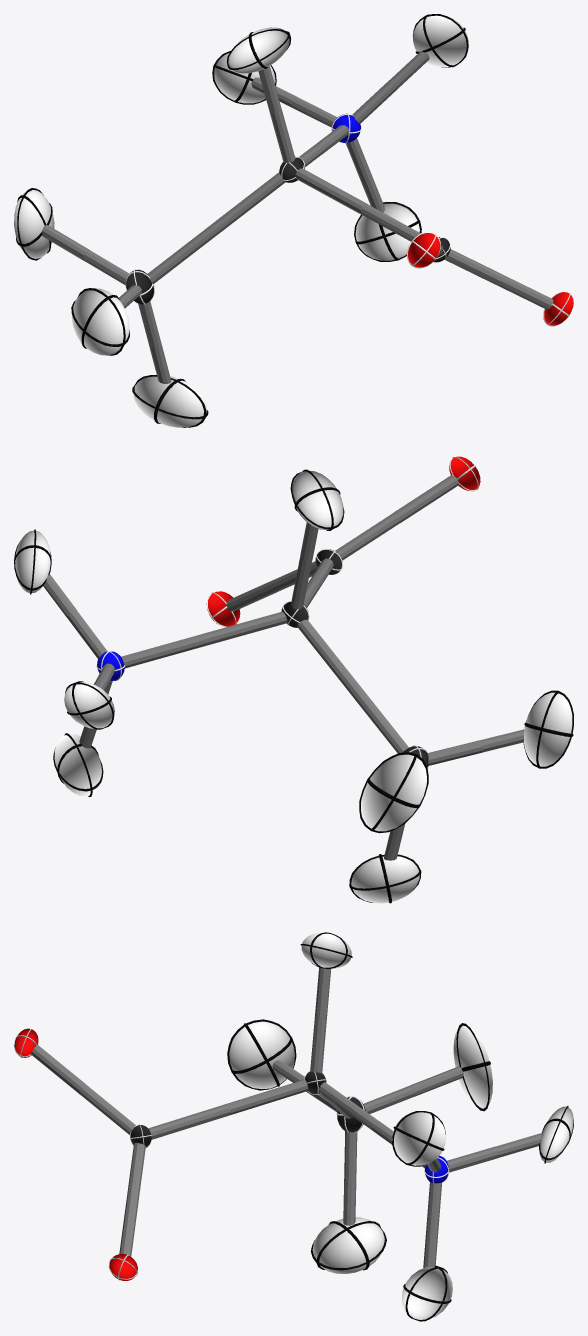
Rendered from L-Ala.obj.
3 renders of one model, top to bottom at view 1: azimuth 30°, elevation 25°; view 2: azimuth 150°, elevation 25°; view 3: azimuth 270°, elevation 25°, orthographic. The views are drawn at different scales.
Visible parts, largest first — view 1: H6, H7, H1, H2, H5, H4, H3, C1=C2, C2=C1, C1=C3, O2, C3=C1 (+13 smaller); view 2: H5, H6, H7, H4, H1, H3, H2, C1=N1, N1=C1, C1=C2, C2=C1, O2=C3 (+8 smaller); view 3: H6, H7, H2, H5, H1, H4, H3, C3=C1, C1=C3, C1=N1, C3=O2, O2=C3 (+13 smaller).
Boxes of the visible parts, x1,y1,x2,y2 form: H6: (71, 288, 129, 355); H7: (132, 375, 208, 427); H1: (354, 202, 421, 261); H2: (413, 14, 468, 67); H5: (14, 188, 54, 260); H4: (227, 27, 290, 73); H3: (212, 51, 276, 104); C1=C2: (212, 172, 285, 232); C2=C1: (147, 224, 219, 283); C1=C3: (295, 168, 367, 214); O2: (407, 232, 440, 268); C3=C1: (361, 204, 420, 241); H5: (359, 752, 428, 833); H6: (523, 690, 573, 768); H7: (349, 854, 421, 903); H4: (290, 469, 344, 530); H1: (53, 733, 103, 796); H3: (64, 681, 114, 729); H2: (14, 529, 51, 594); C1=N1: (202, 611, 287, 645); N1=C1: (121, 634, 204, 668); C1=C2: (297, 619, 358, 691); C2=C1: (349, 684, 408, 753); O2=C3: (393, 475, 459, 522); H6: (227, 1019, 296, 1090); H7: (310, 1217, 386, 1273); H2: (392, 1111, 446, 1166); H5: (453, 1023, 492, 1111); H1: (402, 1265, 452, 1321); H4: (300, 932, 352, 968); H3: (539, 1106, 573, 1163); C3=C1: (148, 1104, 230, 1139); C1=C3: (227, 1079, 308, 1115); C1=N1: (318, 1082, 378, 1129); C3=O2: (80, 1085, 135, 1134); O2=C3: (31, 1044, 86, 1094).
Bounding box in the file's own units: 4.23 × 3.37 × 4.57.
